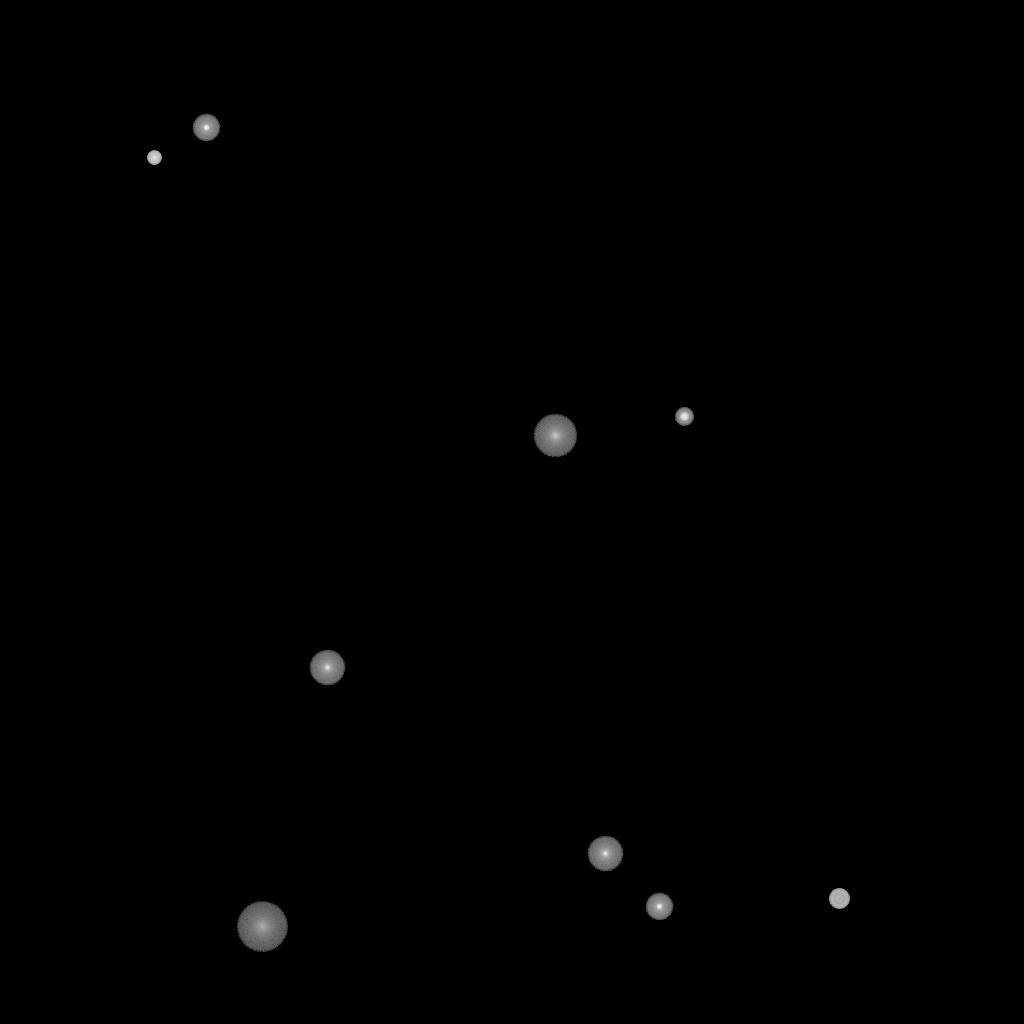depth:-10: (645, 893, 673, 921), (192, 114, 220, 142)
depth:-20: (675, 408, 693, 426)
depth:-30: (147, 151, 161, 165)
depth:-40: (829, 889, 849, 909)
depth:0: (587, 836, 623, 872), (309, 650, 345, 686)
depth:10: (533, 414, 577, 458)
depth:20: (236, 902, 288, 952)
